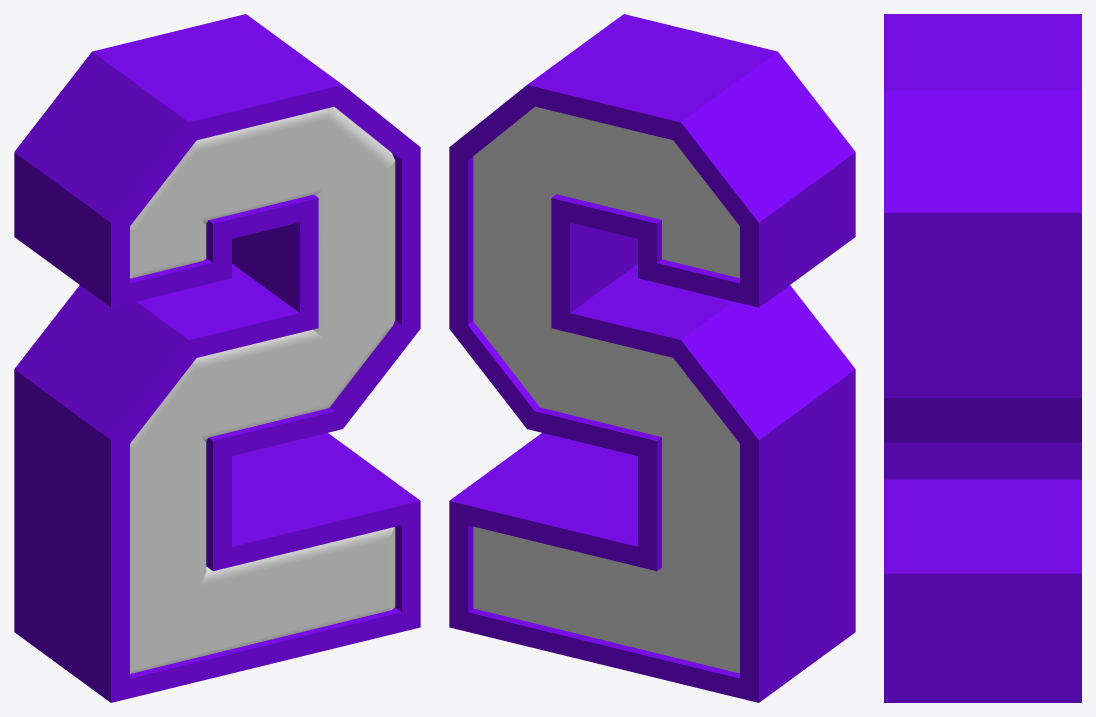
3 views of the same model, side by side, from view 1: azimuth 30°, elevation 25°; view 2: azimuth 150°, elevation 25°; view 3: azimuth 270°, elevation 25° (orthographic). The views are drawn at different scales.
Parts seen in each view (by area): view 1: Extrusion Model.000, Extrusion Model; view 2: Extrusion Model.000, Extrusion Model; view 3: Extrusion Model.000.
Part boxes in pixels (left/top/right/bottom): Extrusion Model.000: left=14, top=14, right=420, bottom=702; Extrusion Model: left=130, top=106, right=395, bottom=673; Extrusion Model.000: left=449, top=14, right=855, bottom=702; Extrusion Model: left=473, top=106, right=739, bottom=673; Extrusion Model.000: left=884, top=14, right=1081, bottom=702.
Bounding box in the file's own units: 8.8 × 15.25 × 4.77.
